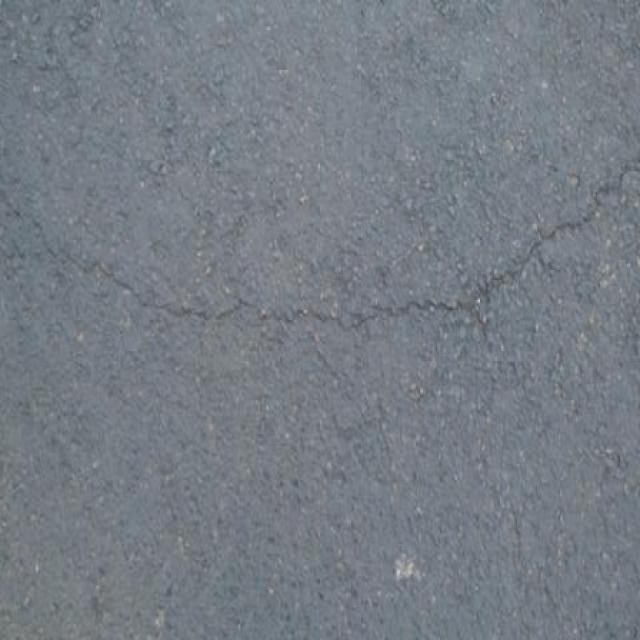Horizontal Crack: (0, 160, 640, 356)
